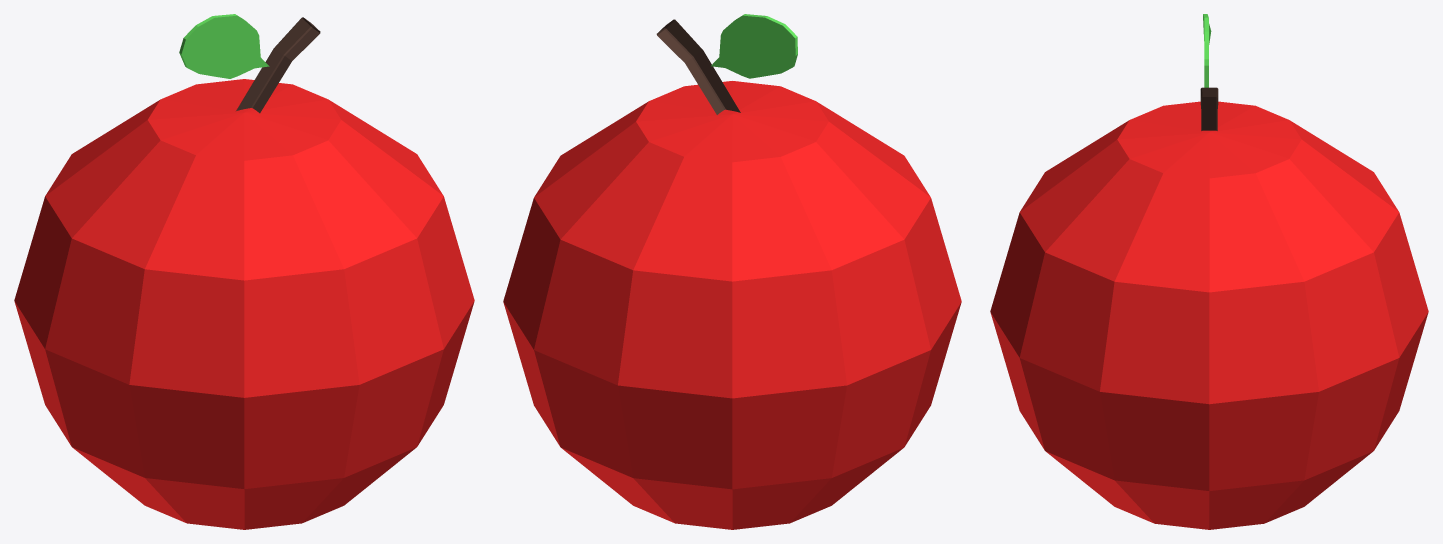
File: jabukaKOOL.fbx
3 renders of one model, left to right at view 1: azimuth 30°, elevation 25°; view 2: azimuth 150°, elevation 25°; view 3: azimuth 270°, elevation 25°, orthographic. The views are drawn at different scales.
Visible parts, largest first — view 1: Sphere.001; view 2: Sphere.001; view 3: Sphere.001.
Part boxes in pixels (x1,y1,x2,y2): Sphere.001: (14,14,474,529); Sphere.001: (503,14,961,529); Sphere.001: (990,14,1428,529).
Bounding box in the file's own units: 200 × 230 × 200.
